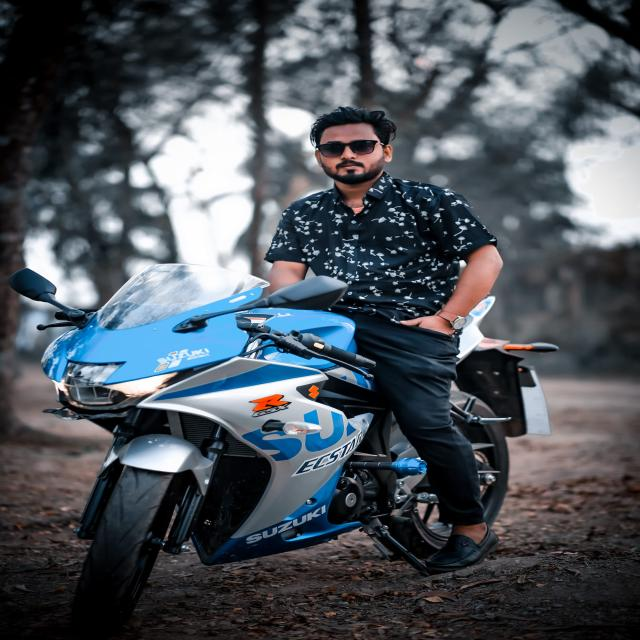Not Wearing Helmet: (129, 74, 498, 234)
